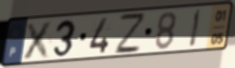3: (51, 17, 80, 60)
4: (87, 16, 111, 55)
8: (155, 10, 179, 51)
I: (188, 8, 204, 49)
X: (20, 19, 57, 61)
Z: (114, 12, 147, 56)
